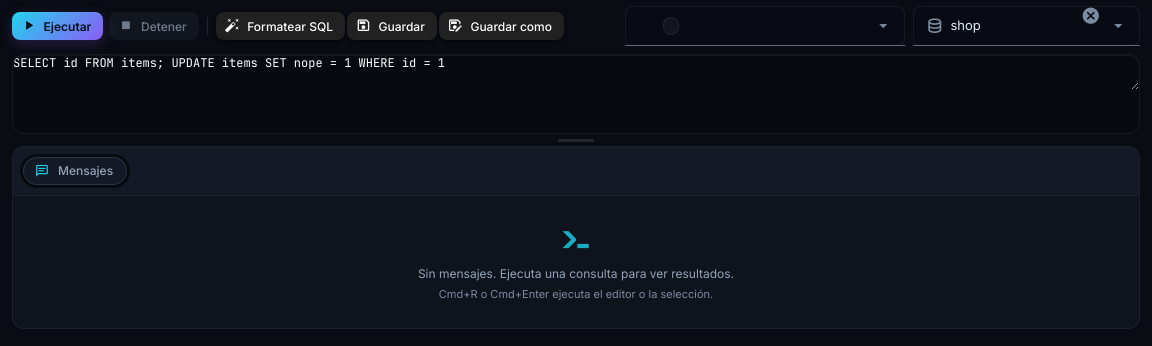
Test: QueryView › runs the editor SQL and renders statement results and errors
Click the button with test id "run": (58, 26) left=12, top=12, right=103, bottom=40
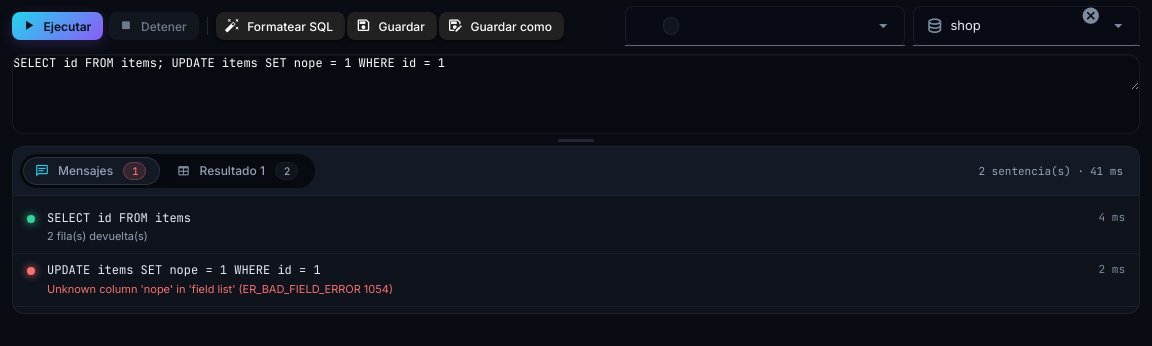
expect the element with test id "message-0" shows "2 fila(s) devuelta(s)": met, box left=47, top=229, right=148, bottom=243
expect the element with test id "message-1" shows "ER_BAD_FIELD_ERROR 1054": met, box left=47, top=282, right=393, bottom=296
expect the tab with test id "tab-rs0" is shown: met, box left=164, top=157, right=312, bottom=185
